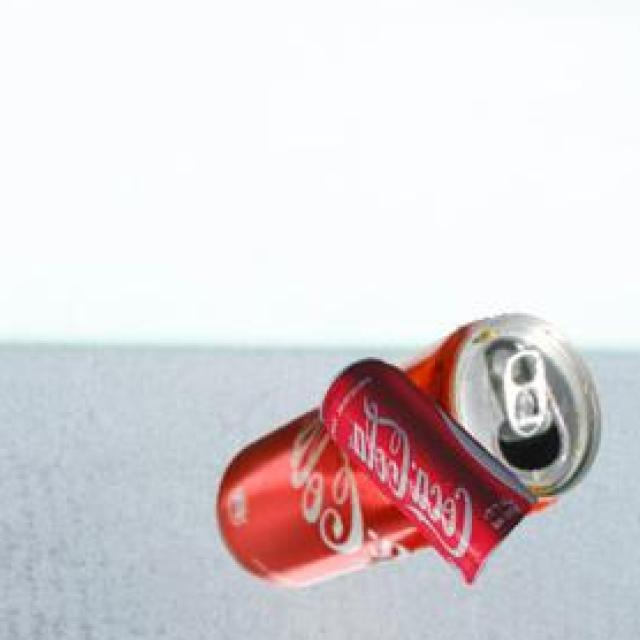logam: (213, 319, 597, 591), (317, 363, 533, 586)
